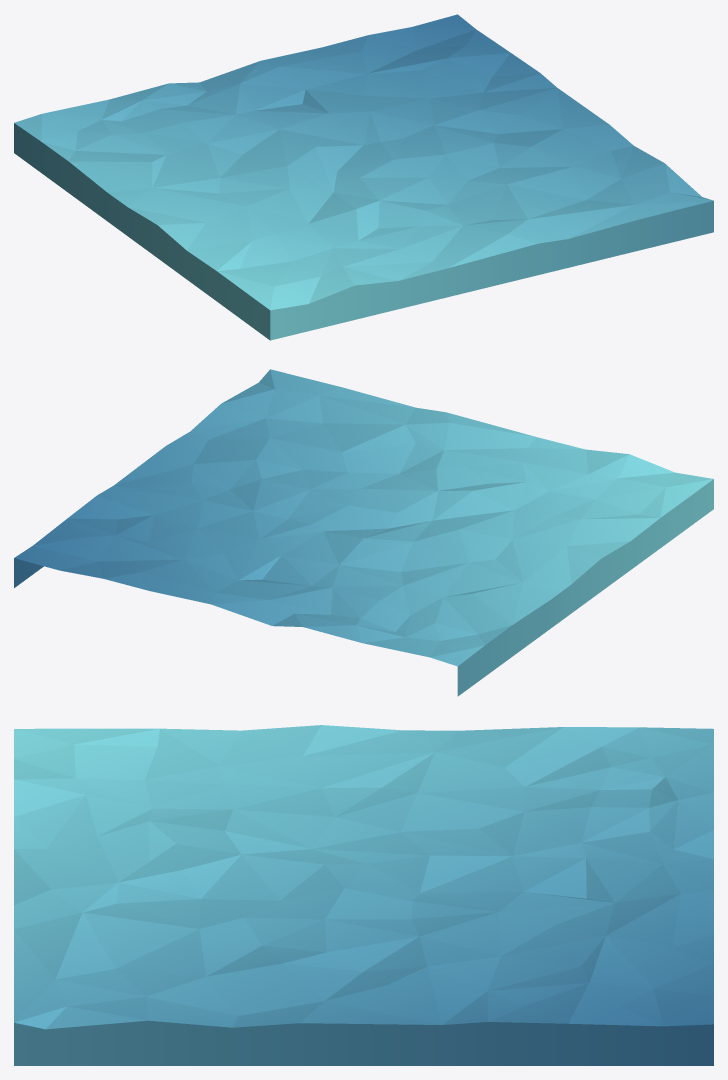
Rendered from water-location-pirate-seaport.glb.
3 views of the same model, one above another, from view 1: azimuth 30°, elevation 25°; view 2: azimuth 150°, elevation 25°; view 3: azimuth 270°, elevation 25° (orthographic). The views are drawn at different scales.
Visible parts, largest first — view 1: water location pirate seaport; view 2: water location pirate seaport; view 3: water location pirate seaport.
Boxes of the visible parts, x1=… form: water location pirate seaport: x1=14, y1=14, x2=713, y2=340; water location pirate seaport: x1=14, y1=369, x2=713, y2=696; water location pirate seaport: x1=14, y1=725, x2=713, y2=1065.
Bounding box in the file's own units: 44 × 3.33 × 44.
Materials: 1 (1 with a texture image).
